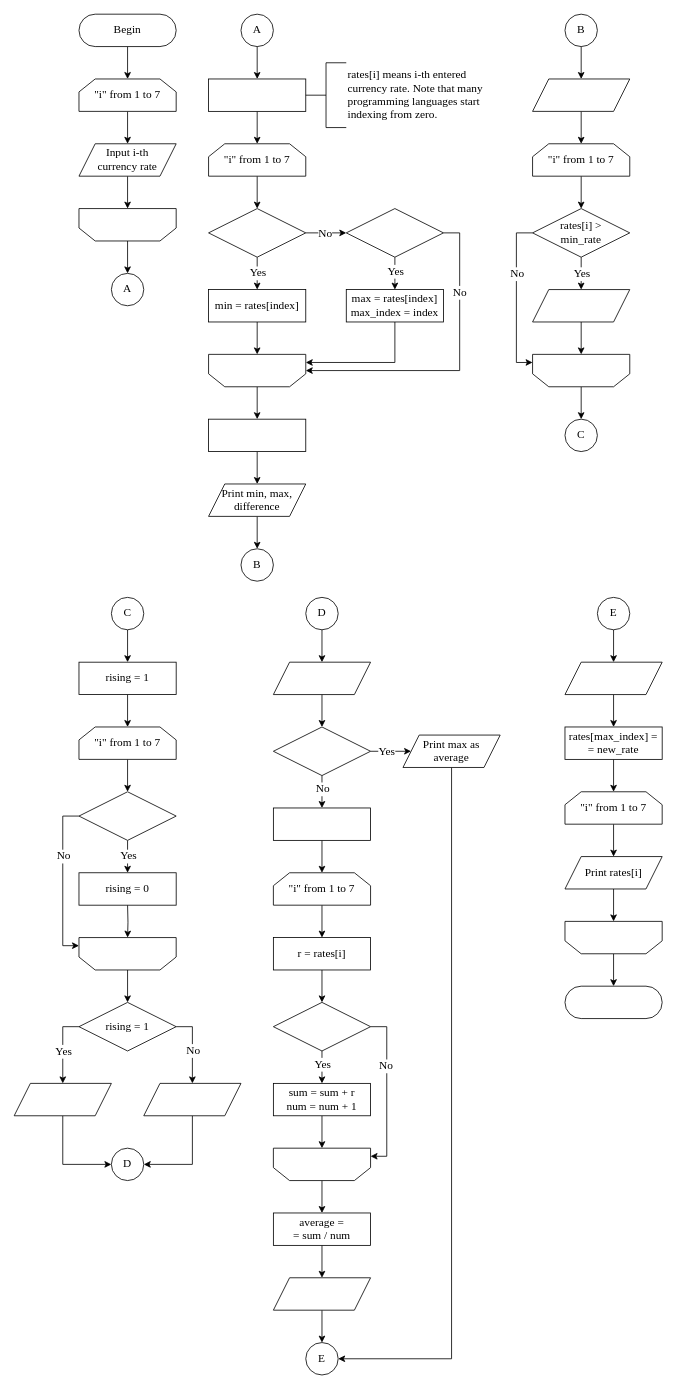
Some shapes in this 676 by 1389 pixel diagram are drawn without their labels. Each missing label, with the centre of its shape:
difference = max - - min: pixel 257 435
End: pixel 613 1002
Input max_rate: pixel 322 678
Input min_rate: pixel 581 94
Input new_rate: pixel 613 678
max_rate ≥ max: pixel 322 751
min, max = rates[1] max_index = 0: pixel 257 94
Print "Euro rate did not rose": pixel 192 1099
Print "Euro rate rose": pixel 62 1099
Print average: pixel 322 1293
Print i, rates[i]: pixel 581 305
r ≥ max_rate, r ≤ max: pixel 322 1026
rates[i + 1] < rates[i]: pixel 127 815
rates[i] < min: pixel 257 232
rates[i] > min: pixel 394 232
sum, num = 0: pixel 322 823
